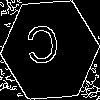C: (25, 25, 61, 73)
